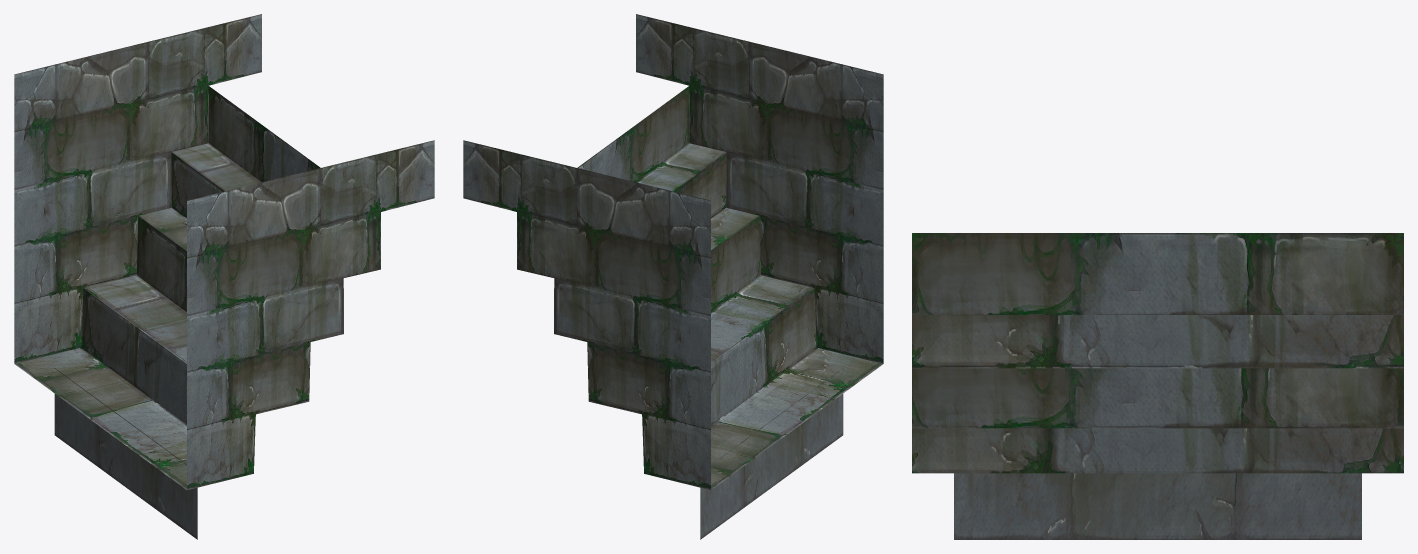
File: stemple_bridgesmall_transition_01.fbx
3 renders of one model, left to right at view 1: azimuth 30°, elevation 25°; view 2: azimuth 150°, elevation 25°; view 3: azimuth 270°, elevation 25°, orthographic. The views are drawn at different scales.
Visible parts, largest first — view 1: sunken_tileset/sunken_wall_straight04_mat; view 2: sunken_tileset/sunken_wall_straight04_mat; view 3: sunken_tileset/sunken_wall_straight04_mat.
Boxes of the visible parts, x1,y1,x2,y2 form: sunken_tileset/sunken_wall_straight04_mat: [14, 14, 434, 539]; sunken_tileset/sunken_wall_straight04_mat: [463, 14, 883, 539]; sunken_tileset/sunken_wall_straight04_mat: [912, 233, 1403, 539].
Size of the model in its own units: 4 by 5.5 by 4.83.
